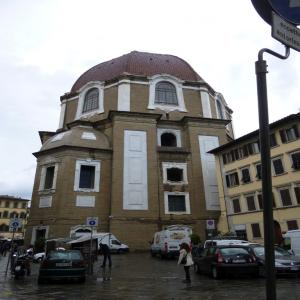Vehicle-registration-plate: (57, 262, 72, 268), (234, 260, 249, 264)
